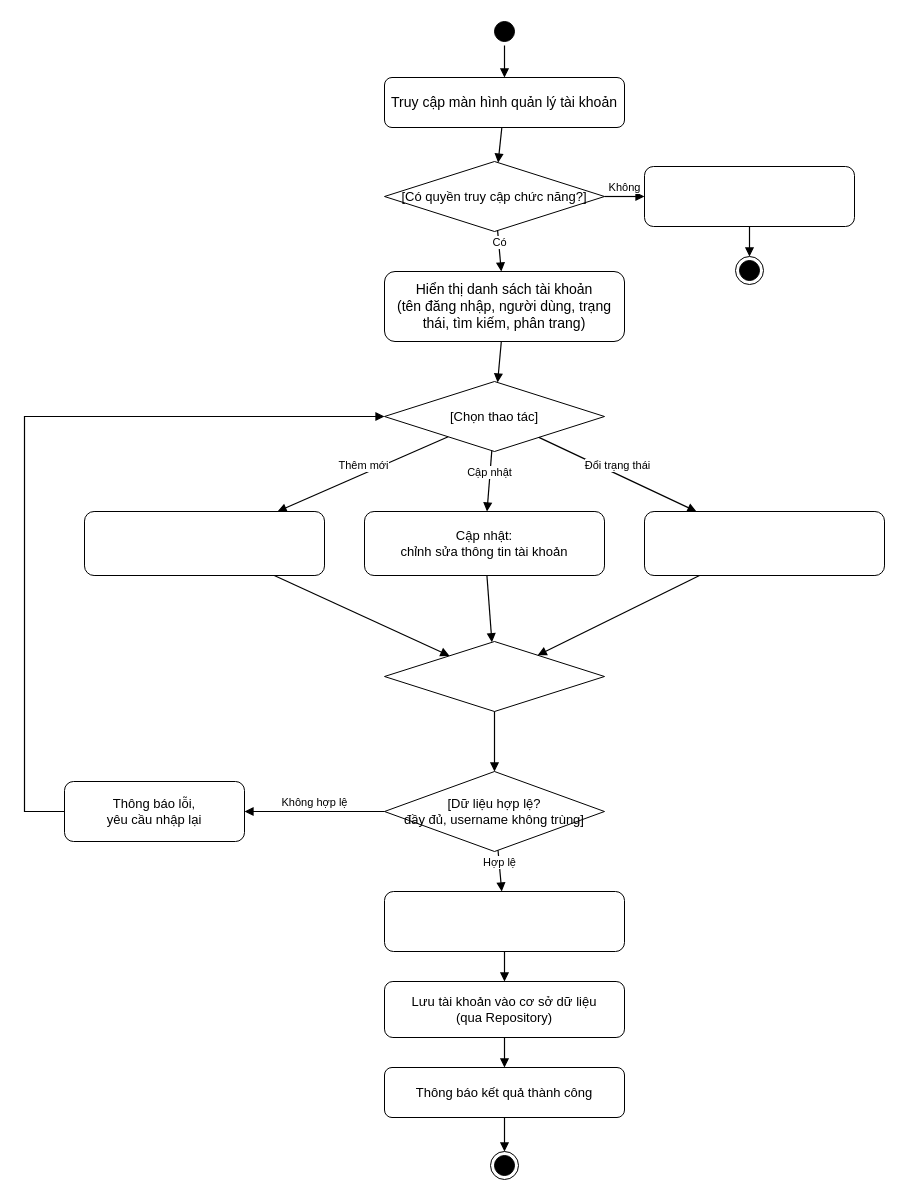
Some shapes in this 903 by 1197 pixel diagram are drawn without their labels. Each missing label, with the centre of its shape:
Băm mật khẩu (mã hóa một chiều) nếu có thay đổi: point (504, 921)
Thêm mới: nhập username, mật khẩu, người dùng: point (204, 543)
Thông báo: không có quyền truy cập: point (749, 196)
Đổi trạng thái: (hoạt động / tạm ngưng / vô hiệu): point (764, 543)
